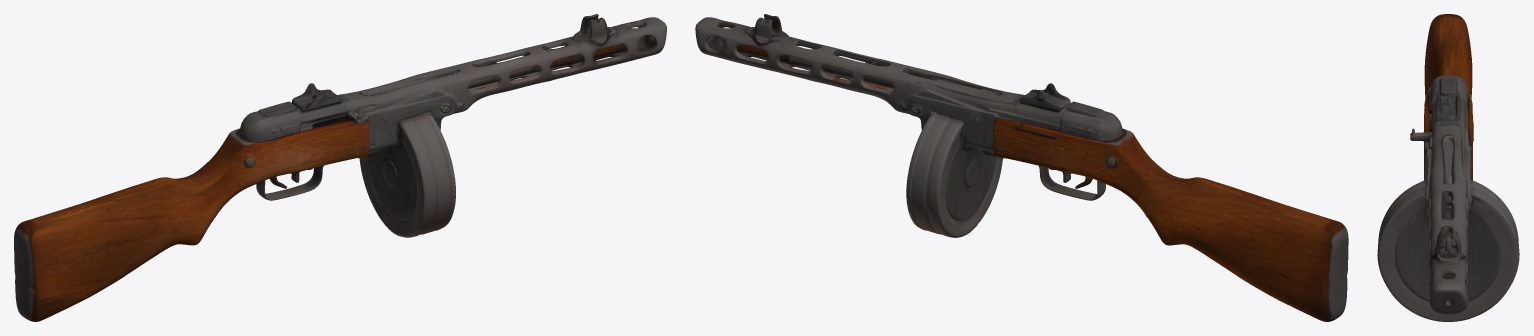
The model's file is wpn_ppsh.glb.
3 views of the same model, side by side, from view 1: azimuth 30°, elevation 25°; view 2: azimuth 150°, elevation 25°; view 3: azimuth 270°, elevation 25° (orthographic). The views are drawn at different scales.
Parts seen in each view (by area): view 1: node_0; view 2: node_0; view 3: node_0.
Part boxes in pixels (bbox=[...]): node_0: bbox=[14, 14, 666, 321]; node_0: bbox=[695, 14, 1348, 321]; node_0: bbox=[1377, 14, 1519, 321].
Size of the model in its own units: 1.18 by 0.2948 by 0.2137.
Materials: 1 (1 with a texture image).
